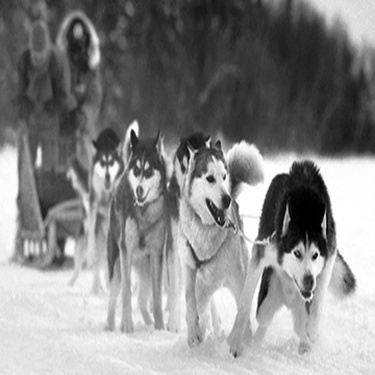dog: (235, 146, 364, 372), (166, 128, 272, 365), (102, 107, 180, 354), (161, 122, 243, 261), (92, 108, 138, 304), (58, 154, 109, 316)
